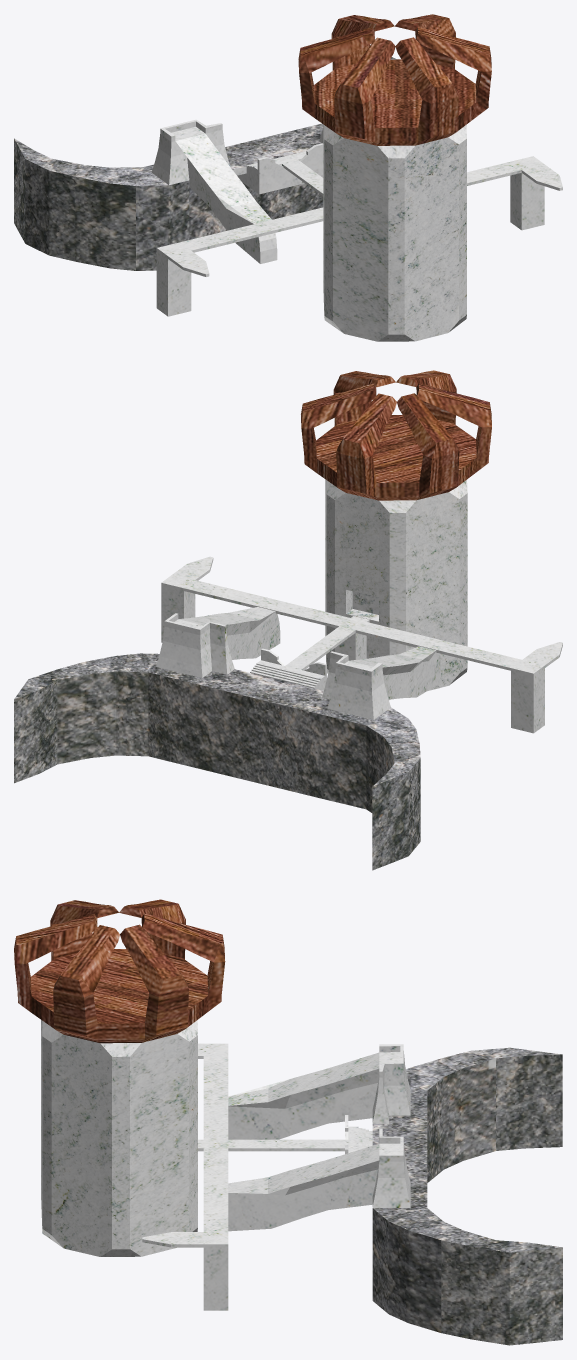
Rendered from Trading_Outpost_1_Asset.fbx.
3 views of the same model, one above another, from view 1: azimuth 30°, elevation 25°; view 2: azimuth 150°, elevation 25°; view 3: azimuth 270°, elevation 25° (orthographic). The views are drawn at different scales.
Parts seen in each view (by area): view 1: Cylinder001, Box001; view 2: Box001, Cylinder001; view 3: Box001, Cylinder001.
Part boxes in pixels (x1=…): Cylinder001: x1=298, y1=14, x2=491, y2=341; Box001: x1=14, y1=57, x2=562, y2=316; Box001: x1=14, y1=556, x2=562, y2=870; Cylinder001: x1=301, y1=370, x2=491, y2=691; Box001: x1=142, y1=1043, x2=562, y2=1345; Cylinder001: x1=14, y1=899, x2=225, y2=1256.
Size of the model in its own units: 1563 by 1155 by 1768.
Materials: 2 (2 with a texture image).
